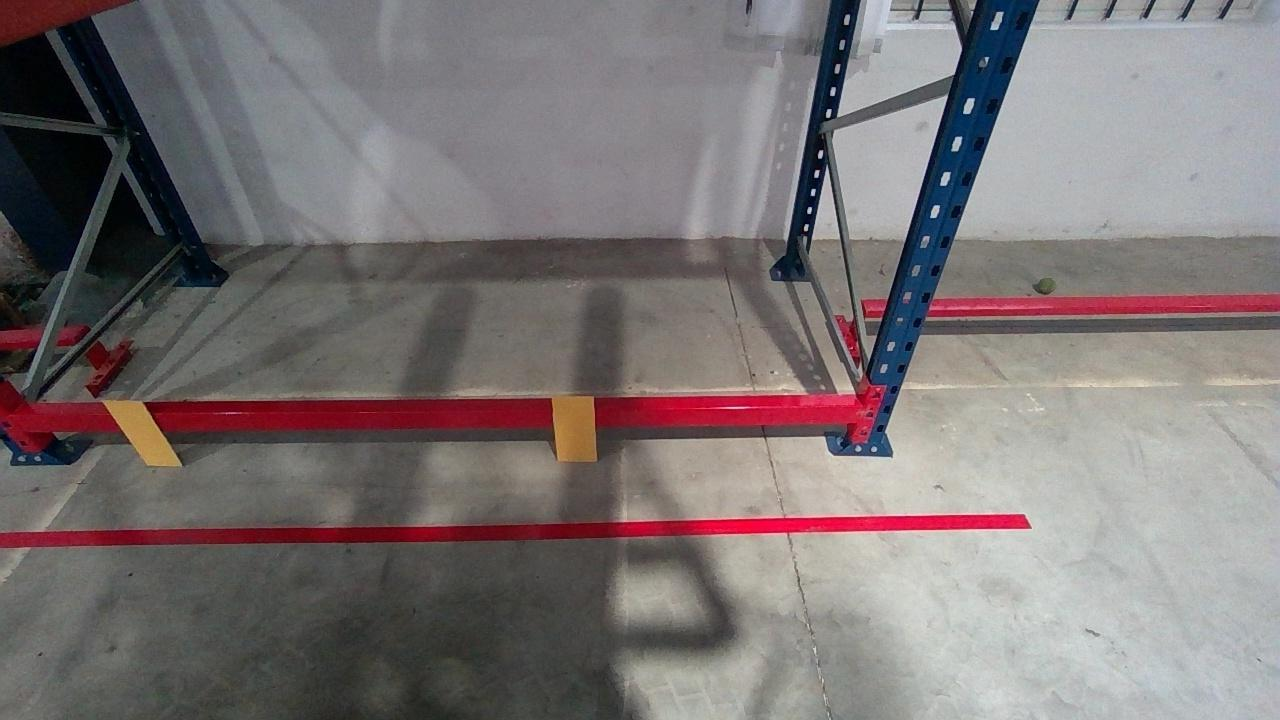h_rack: (3, 405, 864, 432)
orange_strip: (99, 402, 186, 466), (549, 394, 598, 460)
red_line: (3, 514, 1030, 545)
